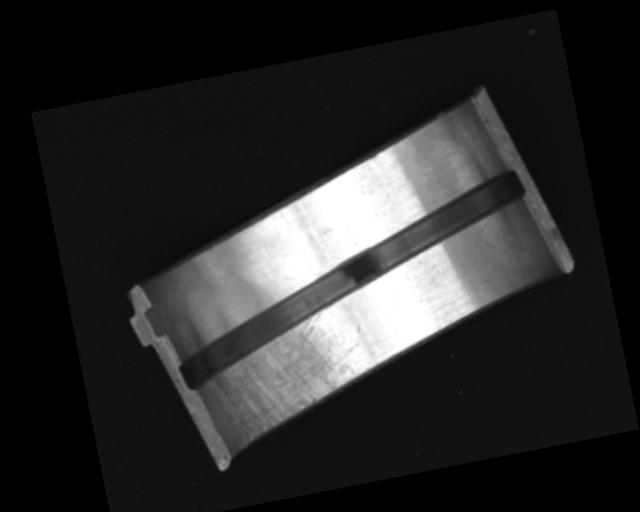gap: (154, 167, 551, 392)
scratch: (206, 303, 372, 447)
